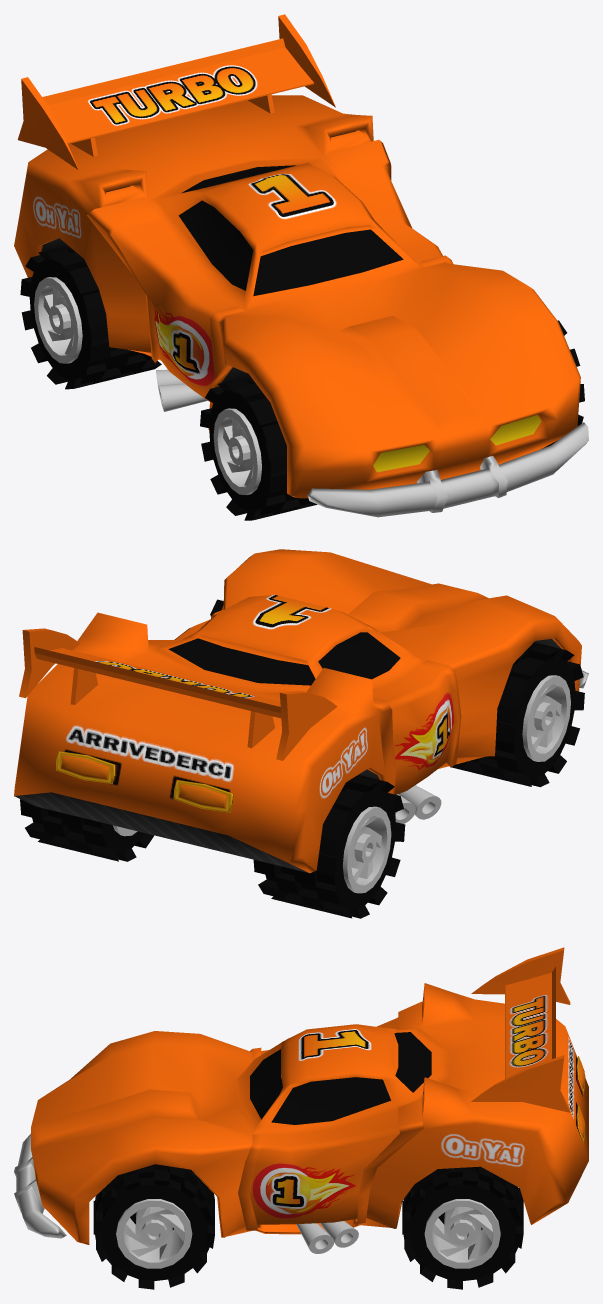
File: race-car.fbx
3 views of the same model, one above another, from view 1: azimuth 30°, elevation 25°; view 2: azimuth 150°, elevation 25°; view 3: azimuth 270°, elevation 25° (orthographic). The views are drawn at different scales.
Parts seen in each view (by area): view 1: Body1, polySurface1, Body2, Tire3, Tire4, Rim3, Rim2, polySurface6; view 2: Body1, polySurface1, Tire3, Tire4, Tire2, Rim3, Rim2, polySurface8, polySurface6; view 3: Body1, polySurface1, Tire1, Tire2, Rim1, Rim, Body2, polySurface4, polySurface5.
Part boxes in pixels (x1,y1,x2,y2): Body1: [14, 95, 580, 498]; polySurface1: [17, 14, 335, 170]; Body2: [307, 422, 588, 517]; Tire3: [20, 245, 161, 389]; Tire4: [200, 376, 317, 520]; Rim3: [34, 277, 82, 363]; Rim2: [213, 408, 261, 495]; polySurface6: [158, 383, 207, 411]; Body1: [14, 549, 581, 873]; polySurface1: [19, 628, 337, 760]; Tire3: [253, 775, 405, 918]; Tire4: [451, 642, 584, 787]; Tire2: [20, 799, 153, 861]; Rim3: [342, 806, 391, 893]; Rim2: [522, 675, 570, 761]; polySurface8: [56, 751, 233, 812]; polySurface6: [399, 785, 441, 819]; Body1: [31, 983, 588, 1244]; polySurface1: [471, 947, 570, 1112]; Tire1: [93, 1164, 214, 1289]; Tire2: [402, 1166, 523, 1289]; Rim1: [424, 1199, 500, 1268]; Rim: [116, 1199, 192, 1268]; Body2: [14, 1133, 66, 1238]; polySurface4: [296, 1223, 334, 1253]; polySurface5: [320, 1221, 358, 1247].
Size of the model in its own units: 32.8 by 25.6 by 60.43.
